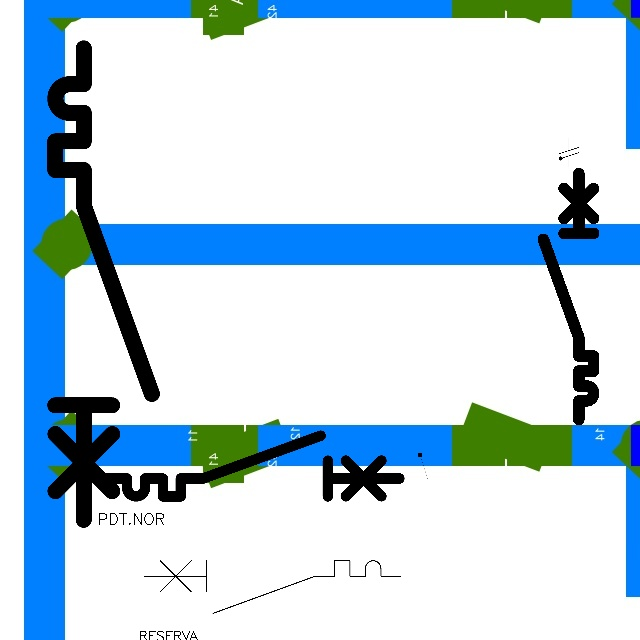interruptor_termomagnetico: (43, 36, 164, 532), (97, 428, 407, 504), (138, 554, 407, 620), (537, 167, 600, 426)
